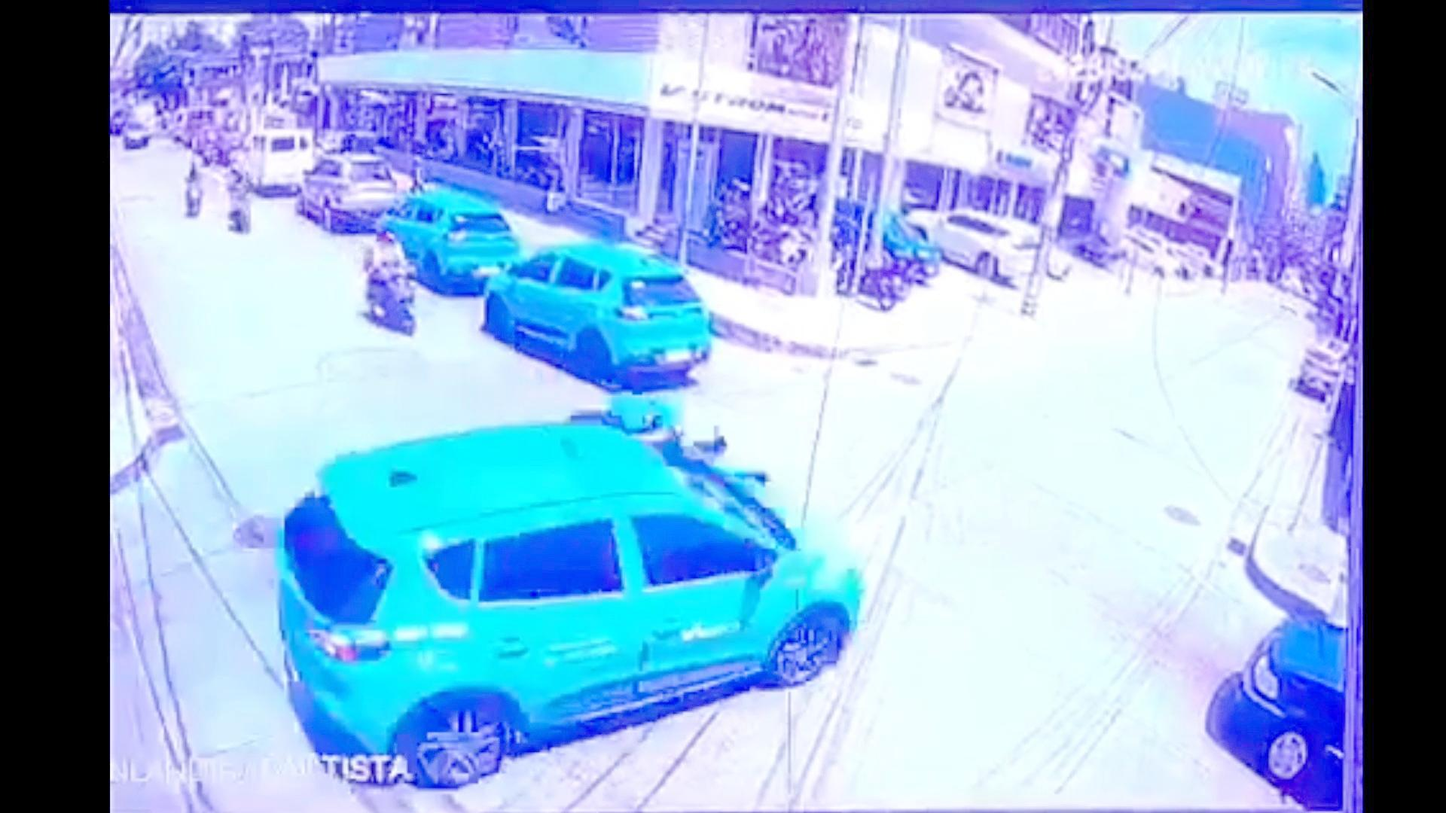Car: (278, 410, 863, 792), (480, 235, 713, 389), (1232, 600, 1357, 785), (376, 186, 524, 293), (917, 197, 1037, 287), (827, 190, 939, 286), (297, 149, 404, 228), (237, 123, 309, 195), (1114, 227, 1174, 283), (1301, 327, 1341, 405), (1167, 241, 1219, 280), (123, 118, 150, 149)
Minor Accident: (275, 381, 866, 797)
Motor: (579, 382, 766, 495), (362, 232, 427, 332), (835, 232, 902, 306), (226, 166, 258, 237), (183, 161, 204, 217)
